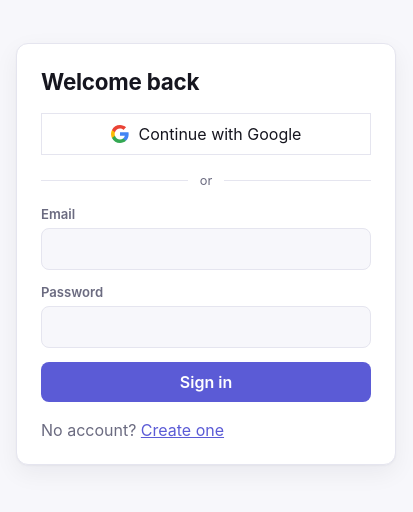
LoginPage › shows the server's error message when login fails
In the field labelled "Email": (206, 249) [41, 228, 371, 270], type "a@b.com"
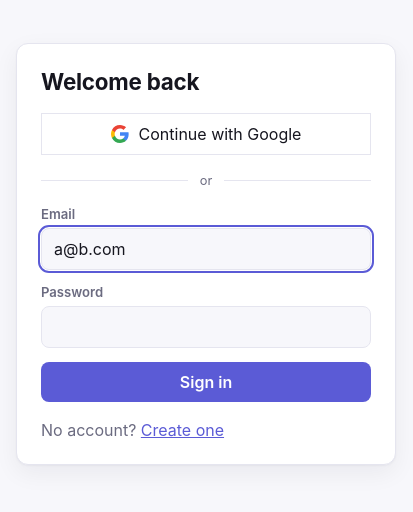
In the password field labelled "Password": (206, 327) [41, 306, 371, 348], type "wrong"
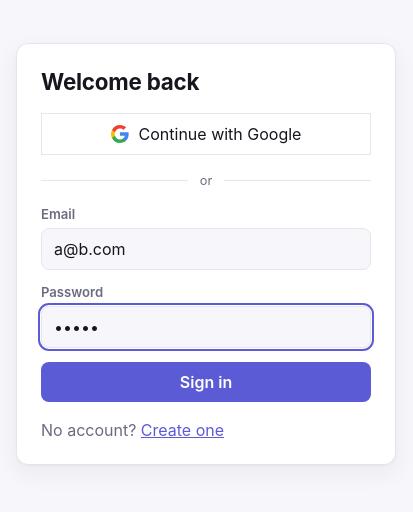
Click the button "Sign in": (206, 382) [41, 362, 371, 402]
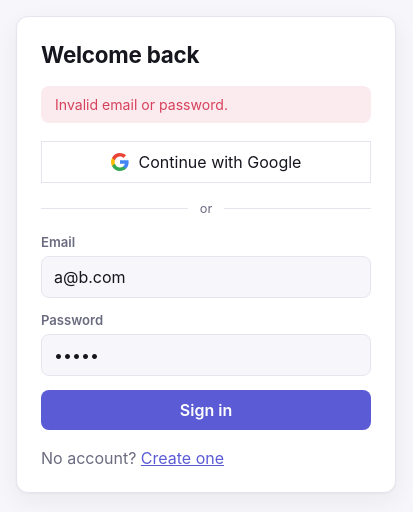
Now the text "Invalid email or password." is shown, box [41, 86, 371, 122]
